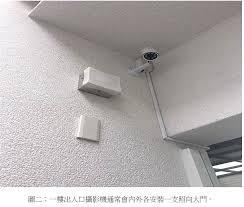Monitor: (135, 33, 173, 82)
